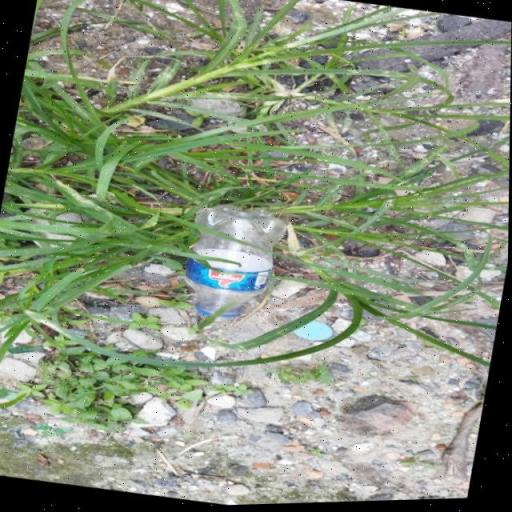plastic: (177, 198, 291, 332)
